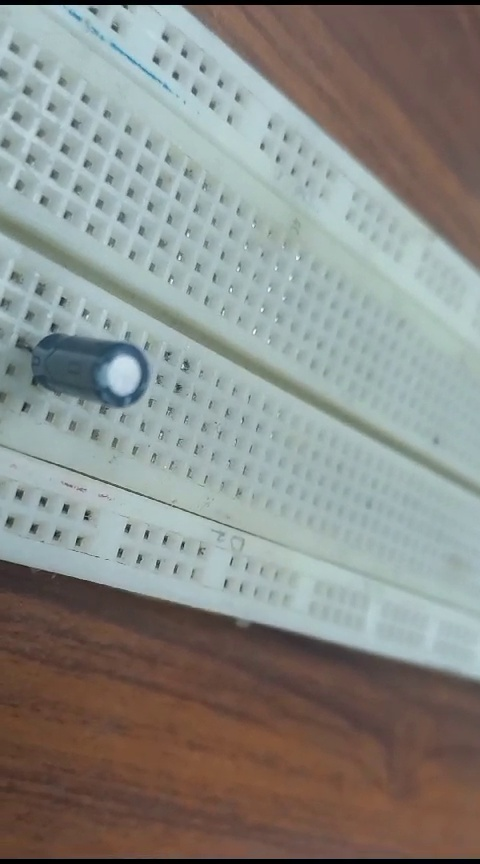capacitor: (16, 316, 158, 412)
